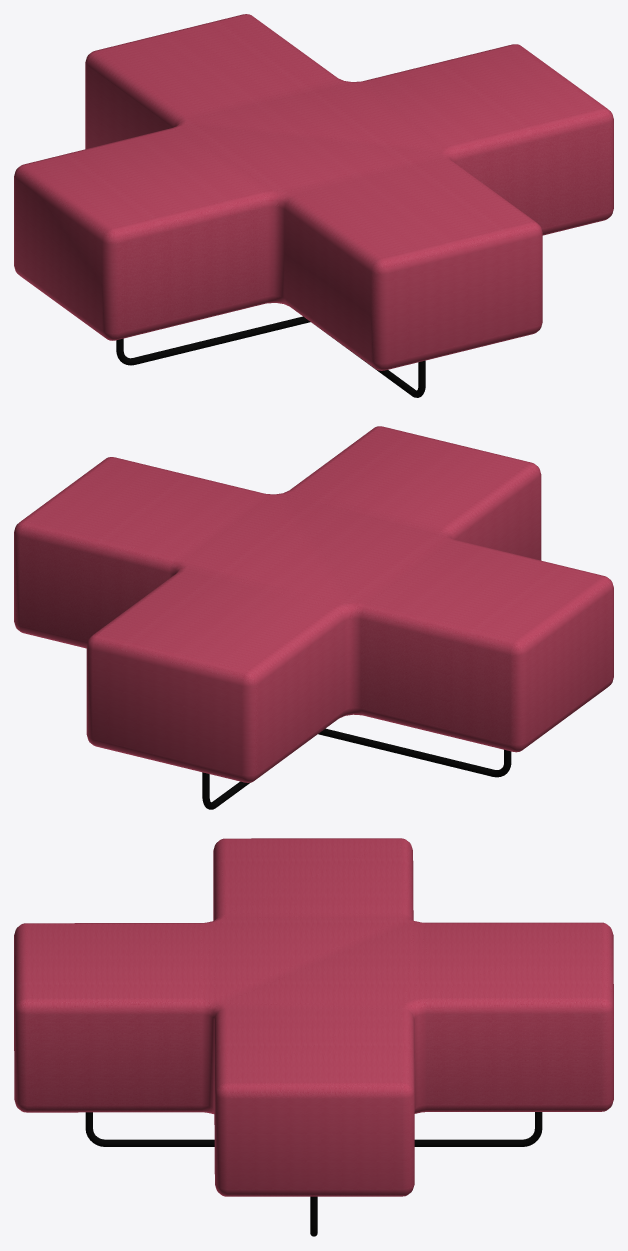
The model's file is Criss cross ottoman.FBX.
The picture shows the model from 3 angles, top to bottom: view 1: azimuth 30°, elevation 25°; view 2: azimuth 150°, elevation 25°; view 3: azimuth 270°, elevation 25°; orthographic projection.
Visible parts, largest first — view 1: Object035, Line002, Line003; view 2: Object035, Line002, Line003; view 3: Object035, Line003.
Boxes of the visible parts, x1,y1,x2,y2 form: Object035: (14, 14, 613, 370); Line002: (116, 316, 310, 365); Line003: (321, 329, 425, 397); Object035: (14, 426, 613, 782); Line002: (318, 728, 511, 777); Line003: (202, 772, 250, 809); Object035: (14, 838, 613, 1196); Line003: (85, 1112, 542, 1146).
Size of the model in its own units: 1369 by 471 by 1369.
2 materials, 1 textured.
